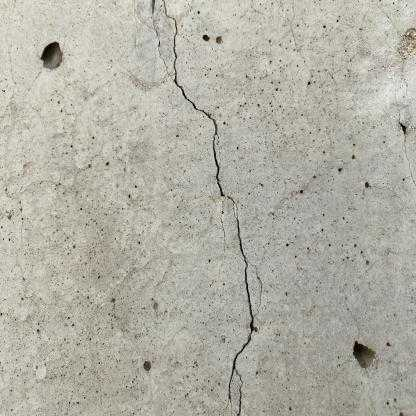crack: (163, 0, 224, 197), (227, 195, 253, 416), (246, 257, 262, 316)
